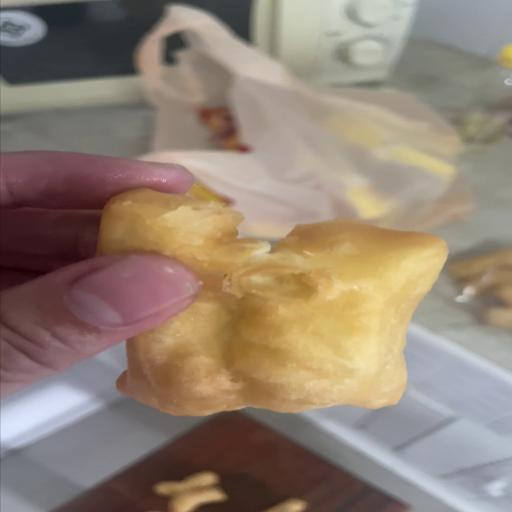street_golden_defect: (101, 188, 450, 415)
